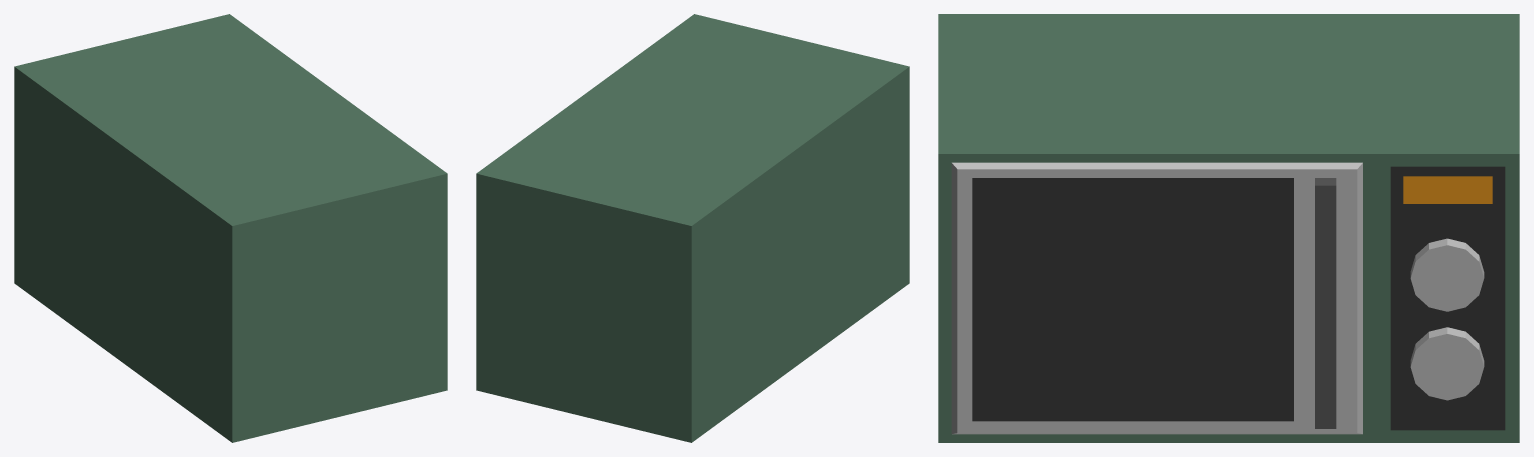
Rendered from Mikroovn.fbx.
3 renders of one model, left to right at view 1: azimuth 30°, elevation 25°; view 2: azimuth 150°, elevation 25°; view 3: azimuth 270°, elevation 25°, orthographic. The views are drawn at different scales.
Parts seen in each view (by area): view 1: Mikroovn; view 2: Mikroovn; view 3: Mikroovn.
Boxes of the visible parts, left/top/right/bottom form: Mikroovn: left=14, top=14, right=447, bottom=442; Mikroovn: left=476, top=14, right=909, bottom=442; Mikroovn: left=938, top=14, right=1519, bottom=442.
Size of the model in its own units: 49.29 by 44.19 by 80.55.
